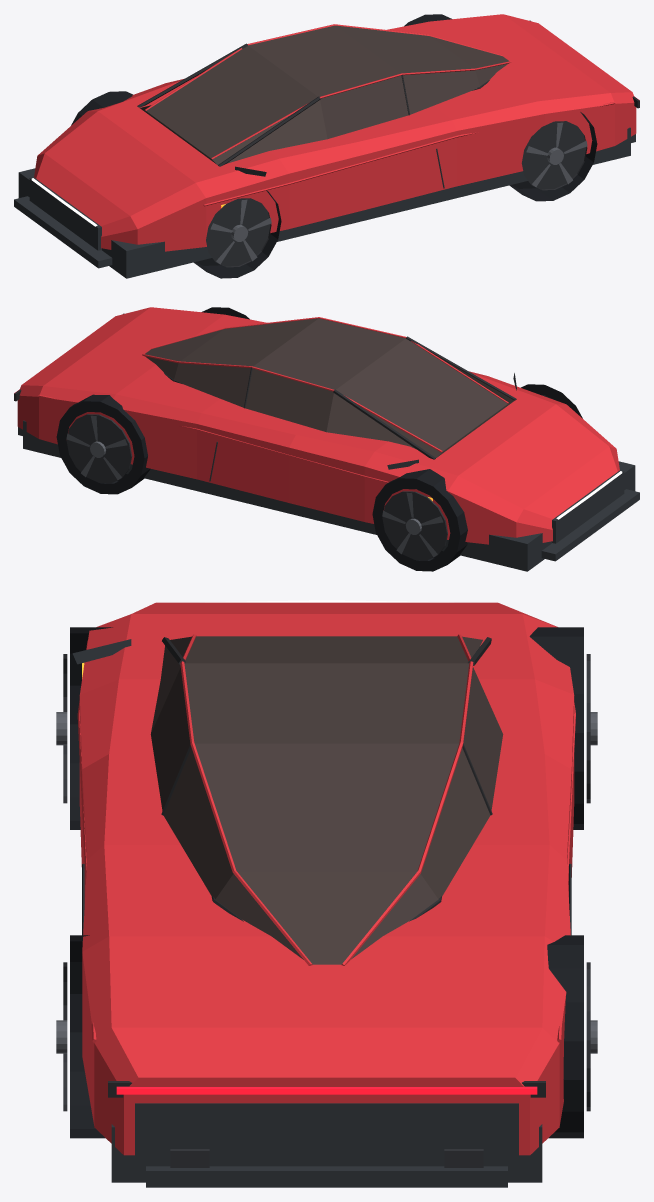
Rendered from roadster_02_red.glb.
3 views of the same model, one above another, from view 1: azimuth 30°, elevation 25°; view 2: azimuth 150°, elevation 25°; view 3: azimuth 270°, elevation 25° (orthographic). The views are drawn at different scales.
Parts seen in each view (by area): view 1: Web mesh - Ano White satin.007, Smoked panoramic canopy, Web mesh - Graphite lower aero.007, Web mesh - Hub center.007, Web mesh - Tire rubber.007, Web mesh - Wheel dark alloy.007, Web mesh - Dark window trim.007; view 2: Web mesh - Ano White satin.007, Smoked panoramic canopy, Web mesh - Graphite lower aero.007, Web mesh - Tire rubber.007, Web mesh - Hub center.007, Web mesh - Wheel dark alloy.007, Web mesh - Dark window trim.007; view 3: Web mesh - Ano White satin.007, Smoked panoramic canopy, Web mesh - Graphite lower aero.007, Web mesh - Tire rubber.007, Web mesh - Hub center.007, Web mesh - Rear light red.007, Web mesh - Dark window trim.007, Web mesh - Wheel dark alloy.007.
Part boxes in pixels (box(x1,y1,x2,y2)): Web mesh - Ano White satin.007: box(34, 14, 636, 251); Smoked panoramic canopy: box(140, 25, 508, 164); Web mesh - Graphite lower aero.007: box(14, 127, 635, 278); Web mesh - Hub center.007: box(206, 121, 587, 267); Web mesh - Tire rubber.007: box(71, 14, 597, 278); Web mesh - Wheel dark alloy.007: box(210, 122, 587, 264); Web mesh - Dark window trim.007: box(137, 20, 639, 166); Web mesh - Ano White satin.007: box(17, 307, 619, 544); Smoked panoramic canopy: box(145, 318, 514, 457); Web mesh - Graphite lower aero.007: box(18, 373, 639, 571); Web mesh - Tire rubber.007: box(56, 307, 582, 571); Web mesh - Hub center.007: box(66, 395, 556, 560); Web mesh - Wheel dark alloy.007: box(66, 395, 544, 557); Web mesh - Dark window trim.007: box(14, 313, 516, 459); Web mesh - Ano White satin.007: box(77, 602, 575, 1155); Smoked panoramic canopy: box(150, 636, 503, 964); Web mesh - Graphite lower aero.007: box(72, 639, 571, 1187); Web mesh - Tire rubber.007: box(70, 627, 583, 1138); Web mesh - Hub center.007: box(63, 654, 590, 1167); Web mesh - Rear light red.007: box(116, 1086, 537, 1094); Web mesh - Dark window trim.007: box(108, 637, 545, 1097); Web mesh - Wheel dark alloy.007: box(56, 712, 597, 1053).
Size of the model in its own units: 5.05 by 1.21 by 2.21.
